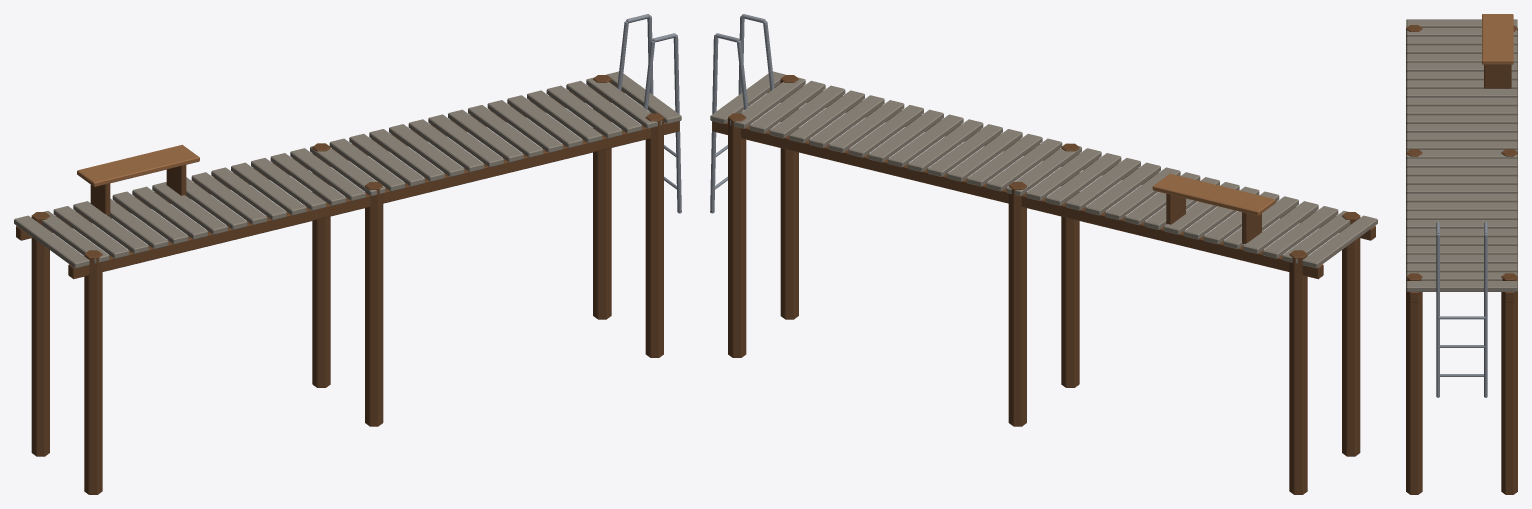
File: badbrygga.glb
3 views of the same model, side by side, from view 1: azimuth 30°, elevation 25°; view 2: azimuth 150°, elevation 25°; view 3: azimuth 270°, elevation 25° (orthographic). The views are drawn at different scales.
Visible parts, largest first — view 1: badbrygga; view 2: badbrygga; view 3: badbrygga.
Boxes of the visible parts, left/top/right/bottom form: badbrygga: left=14, top=14, right=681, bottom=494; badbrygga: left=710, top=14, right=1377, bottom=494; badbrygga: left=1406, top=14, right=1517, bottom=494.
Size of the model in its own units: 8.23 by 3.83 by 1.41.
